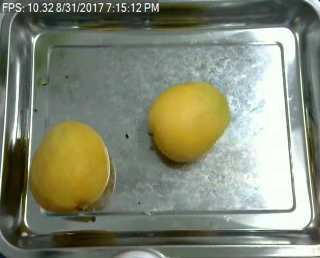Mango: (23, 120, 112, 212), (147, 77, 230, 165)
